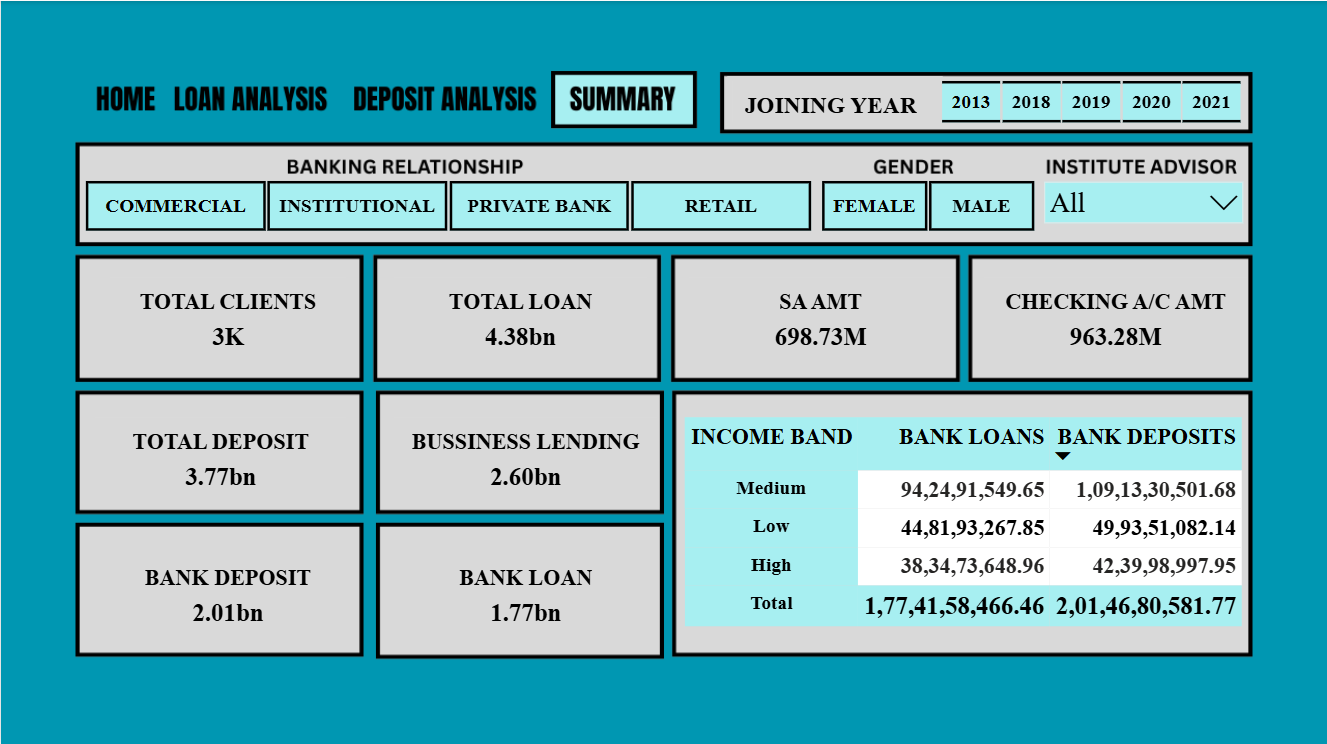

The page's visual inventory and layout, read from the dashboard file:
{"tool":"powerbi","page":{"name":"SUMMARY","canvas":[1280,720],"ordinal":3},"visuals":[{"type":"actionButton","box":[83.3,70.8,73.6,47.2],"z":0},{"type":"actionButton","box":[156.9,70.8,162.5,47.2],"z":1000},{"type":"actionButton","box":[319.4,70.8,197.2,47.2],"z":2000},{"type":"cardVisual","fields":{"Data":["banking_data.Year of Joining"]},"box":[701.4,72.2,208.3,50],"z":3000},{"type":"slicer","fields":{"Values":["banking_data.Year of Joining"]},"box":[884.7,72.2,336.1,50],"z":4000},{"type":"cardVisual","fields":{"Data":["banking_data.Checking Accounts"]},"box":[943.4,261.8,265.4,79.6],"z":8000},{"type":"slicer","fields":{"Values":["banking_data.BRId"]},"box":[57.6,168.8,747.9,57.6],"z":10000},{"type":"slicer","fields":{"Values":["banking_data.GenderId"]},"box":[768.4,168.8,252.5,57.6],"z":11000},{"type":"slicer","fields":{"Values":["banking_data.IAId"]},"box":[996.2,164.7,212.7,64.5],"z":12000},{"type":"pivotTable","title":"BANK LOAN BY INCOME BAND","fields":{"Rows":["banking_data.Income Band"],"Values":["banking_data.Bank Loans","banking_data.Bank Deposits"]},"box":[655.1,396.9,565.8,229.2],"z":13000},{"type":"cardVisual","fields":{"Data":["banking_data.Total Loan"]},"box":[374,261.8,255.8,80.8],"z":13001},{"type":"cardVisual","fields":{"Data":["banking_data.Total Deposit"]},"box":[85.7,396.9,253.4,79.6],"z":13003},{"type":"cardVisual","fields":{"Data":["banking_data.Saving Accounts"]},"box":[658.7,261.8,265.4,79.6],"z":13004},{"type":"cardVisual","fields":{"Data":["banking_data.Name"]},"box":[100.1,261.8,238.9,91.7],"z":13005},{"type":"cardVisual","fields":{"Data":["banking_data.Bank Loans"]},"box":[374,528.4,265.4,80.8],"z":13006},{"type":"cardVisual","fields":{"Data":["banking_data.Bank Deposits"]},"box":[100.1,528.4,238.9,80.8],"z":13007},{"type":"cardVisual","fields":{"Data":["banking_data.Business Lending"]},"box":[374,396.9,265.4,79.6],"z":13008}]}

Visuals, with their boxes in screenshot pixels (x1, y1, x2, y2), scaled from the page's 1280x720 canvas onto the 1327x744 screenshot:
actionButton: BBox(86, 73, 163, 122)
actionButton: BBox(163, 73, 331, 122)
actionButton: BBox(331, 73, 536, 122)
cardVisual - banking_data.Year of Joining: BBox(727, 75, 943, 126)
slicer - banking_data.Year of Joining: BBox(917, 75, 1266, 126)
cardVisual - banking_data.Checking Accounts: BBox(978, 271, 1253, 353)
slicer - banking_data.BRId: BBox(60, 174, 835, 234)
slicer - banking_data.GenderId: BBox(797, 174, 1058, 234)
slicer - banking_data.IAId: BBox(1033, 170, 1253, 237)
"BANK LOAN BY INCOME BAND" pivotTable: BBox(679, 410, 1266, 647)
cardVisual - banking_data.Total Loan: BBox(388, 271, 653, 354)
cardVisual - banking_data.Total Deposit: BBox(89, 410, 352, 492)
cardVisual - banking_data.Saving Accounts: BBox(683, 271, 958, 353)
cardVisual - banking_data.Name: BBox(104, 271, 351, 365)
cardVisual - banking_data.Bank Loans: BBox(388, 546, 663, 630)
cardVisual - banking_data.Bank Deposits: BBox(104, 546, 351, 630)
cardVisual - banking_data.Business Lending: BBox(388, 410, 663, 492)
